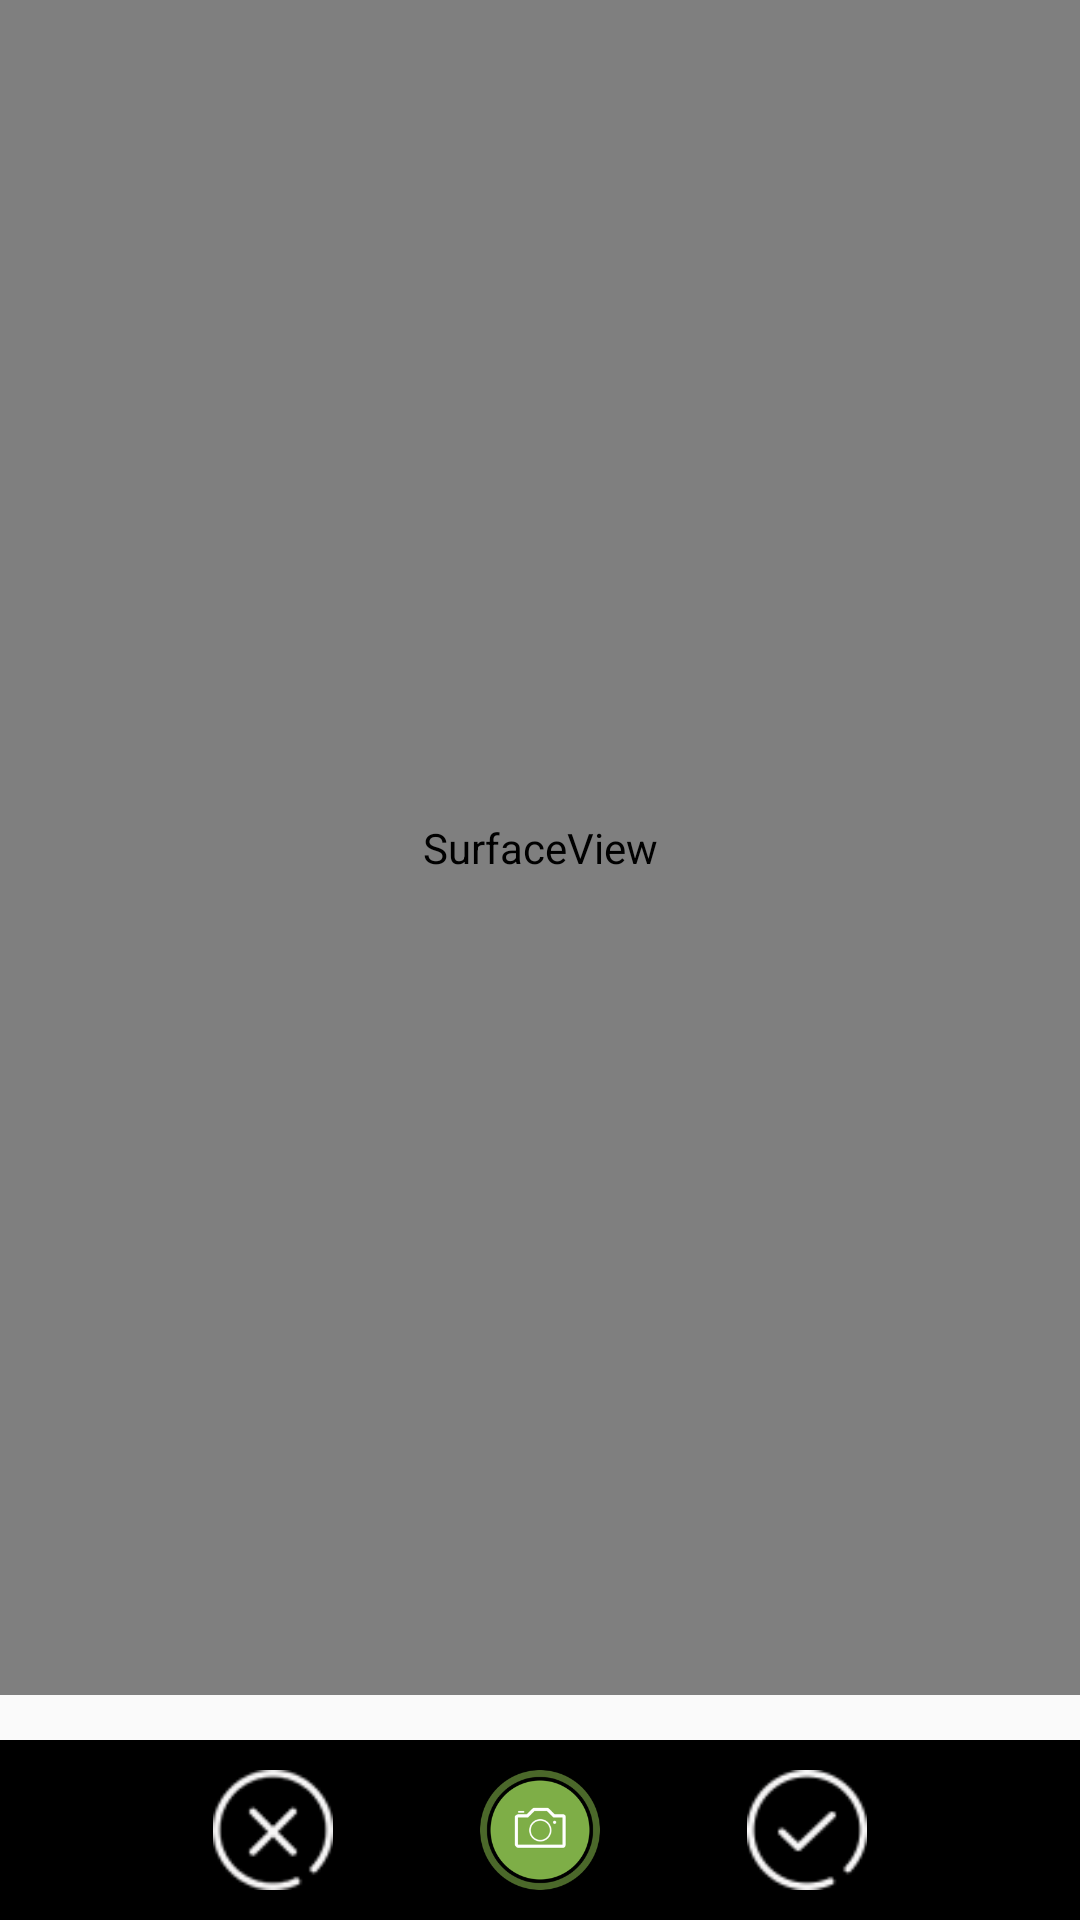

Where to tap for icons on this 1080w x 1920h app screen, as (x,y):
camera clicker: (540,1830)
close off: (273,1830)
complete: (807,1830)
